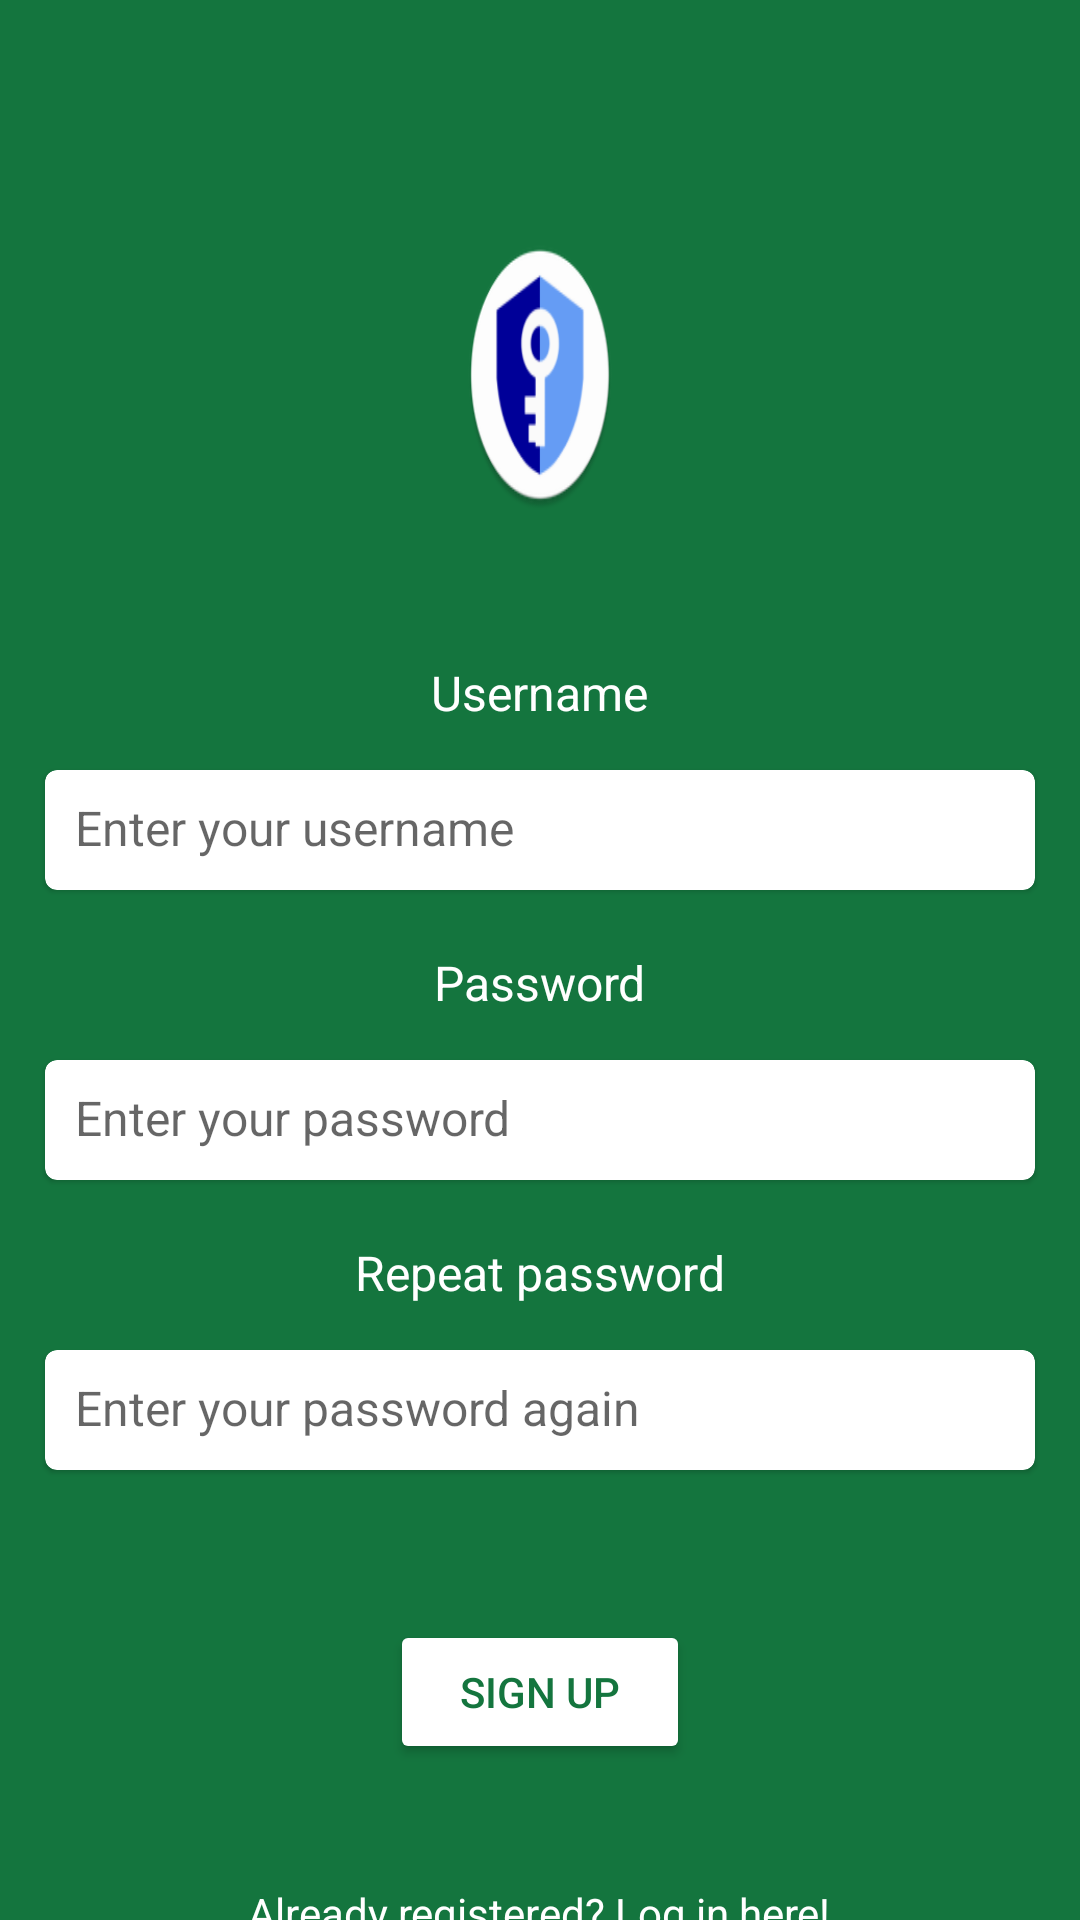

Where icons sit on this 1080w x 1920h app screen, as (x1, y1, x2, y2):
key round: (471, 249, 609, 500)
